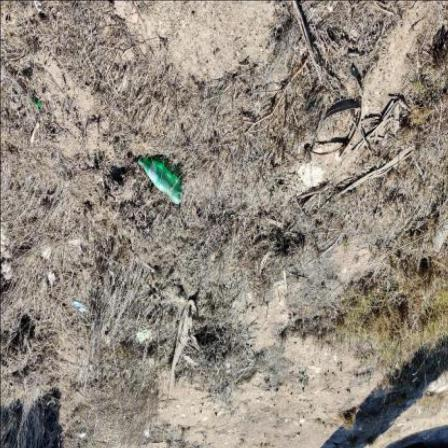Bottle: (138, 156, 183, 205)
Bottle cap: (138, 156, 142, 165)
Other plastic: (30, 102, 43, 109)
Plastic bag - wrapper: (2, 260, 14, 280)
Unlabeled litter: (138, 329, 154, 344), (73, 301, 87, 313)
